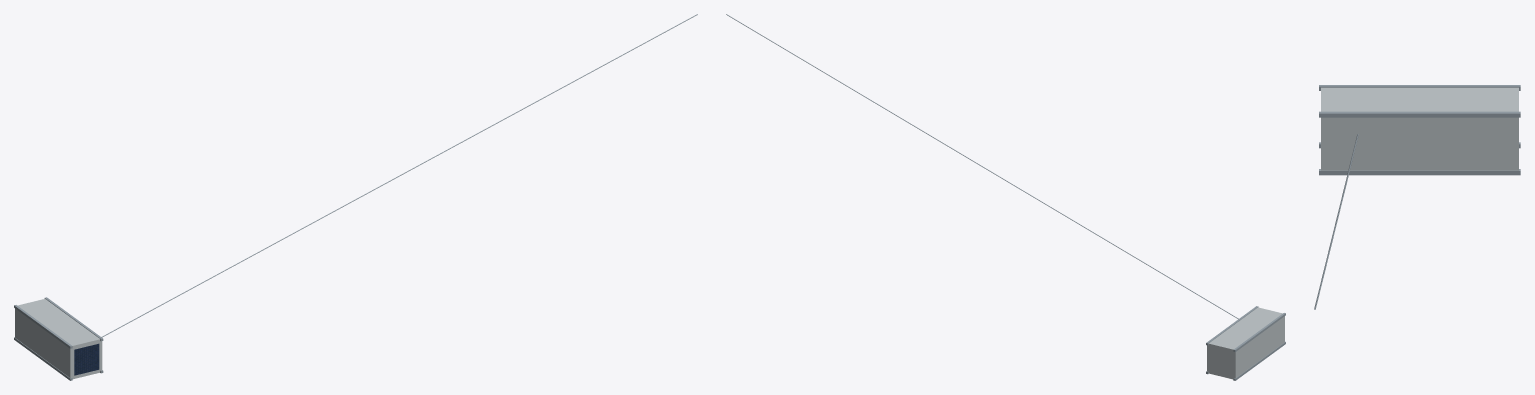
Rendered from ref-cubesat-3u-51442.glb.
3 views of the same model, side by side, from view 1: azimuth 30°, elevation 25°; view 2: azimuth 150°, elevation 25°; view 3: azimuth 270°, elevation 25° (orthographic). The views are drawn at different scales.
Visible parts, largest first — view 1: Spacecraft body, Antenna boom, Body-mounted cells; view 2: Spacecraft body, Antenna boom; view 3: Spacecraft body, Dispenser rail (×3), Antenna boom.
Boxes of the visible parts, <box> form: Spacecraft body: <box>15,299,102,379</box>; Antenna boom: <box>101,14,697,337</box>; Body-mounted cells: <box>74,343,99,375</box>; Spacecraft body: <box>1207,307,1284,379</box>; Antenna boom: <box>726,14,1238,319</box>; Spacecraft body: <box>1321,87,1518,170</box>; Dispenser rail (×3): <box>1319,85,1520,175</box>; Antenna boom: <box>1314,134,1358,309</box>.
Bounding box in the file's own units: 1.96 × 0.6436 × 0.3131.
3 materials, 1 textured.
